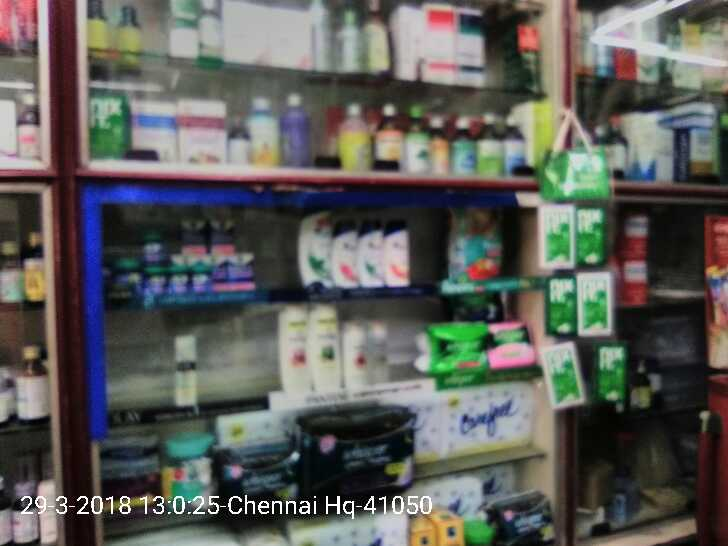vicks: (113, 215, 258, 288)
